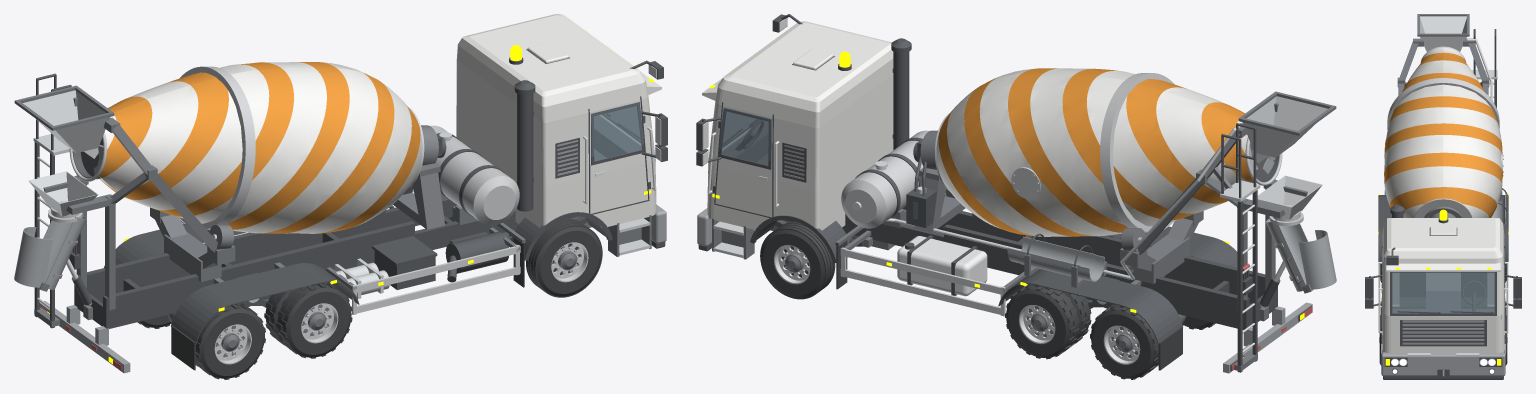
File: Concrete_Mixer_Truck_8m3.glb
3 views of the same model, side by side, from view 1: azimuth 30°, elevation 25°; view 2: azimuth 150°, elevation 25°; view 3: azimuth 270°, elevation 25° (orthographic). The views are drawn at different scales.
Visible parts, largest first — view 1: cab, frame_rails, mixer_subframe, drum_band_9, drum_band_7, drum_band_11, rear_mudguard_2, drum_band_13, water_tank, drum_band_8, drum_band_12, drum_band_10 (+41 smaller); view 2: cab, frame_rails, drum_band_9, drum_band_11, drum_band_7, mixer_subframe, rear_mudguard, drum_band_8, drum_band_13, water_tank, drum_band_12, drum_band_10 (+43 smaller); view 3: cab, windscreen, drum_band_5, bumper, drum_band_7, drum_band_9, drum_band_6, seats, grille, drum_band_4, grille_slats, drum_band_8 (+31 smaller).
Boxes of the visible parts, x1=… form: cab: x1=456, y1=14, x2=656, y2=227; frame_rails: x1=74, y1=200, x2=518, y2=329; mixer_subframe: x1=74, y1=210, x2=414, y2=309; drum_band_9: x1=176, y1=62, x2=326, y2=223; drum_band_7: x1=233, y1=62, x2=378, y2=233; drum_band_11: x1=129, y1=64, x2=269, y2=210; rear_mudguard_2: x1=171, y1=263, x2=359, y2=344; drum_band_13: x1=99, y1=81, x2=198, y2=191; water_tank: x1=430, y1=125, x2=519, y2=225; drum_band_8: x1=227, y1=62, x2=349, y2=229; drum_band_12: x1=102, y1=72, x2=228, y2=199; drum_band_10: x1=156, y1=62, x2=293, y2=216; cab: x1=707, y1=21, x2=893, y2=230; frame_rails: x1=842, y1=206, x2=1277, y2=329; drum_band_9: x1=1030, y1=68, x2=1178, y2=226; drum_band_11: x1=1087, y1=70, x2=1223, y2=213; drum_band_7: x1=980, y1=68, x2=1122, y2=236; mixer_subframe: x1=944, y1=213, x2=1277, y2=309; rear_mudguard: x1=998, y1=269, x2=1182, y2=345; drum_band_8: x1=1008, y1=68, x2=1127, y2=232; drum_band_13: x1=1156, y1=87, x2=1253, y2=189; water_tank: x1=841, y1=130, x2=928, y2=228; drum_band_12: x1=1126, y1=79, x2=1227, y2=203; drum_band_10: x1=1062, y1=68, x2=1196, y2=220; cab: x1=1382, y1=218, x2=1504, y2=353; windscreen: x1=1392, y1=272, x2=1494, y2=313; drum_band_5: x1=1384, y1=166, x2=1502, y2=205; bumper: x1=1381, y1=352, x2=1505, y2=376; drum_band_7: x1=1384, y1=135, x2=1502, y2=171; drum_band_9: x1=1385, y1=107, x2=1501, y2=142; drum_band_6: x1=1384, y1=152, x2=1502, y2=184; seats: x1=1400, y1=273, x2=1486, y2=308; grille: x1=1400, y1=320, x2=1486, y2=346; drum_band_4: x1=1390, y1=187, x2=1496, y2=217; grille_slats: x1=1402, y1=320, x2=1484, y2=344; drum_band_8: x1=1384, y1=123, x2=1502, y2=155.
Size of the model in its own units: 9.47 by 4.01 by 3.07.
